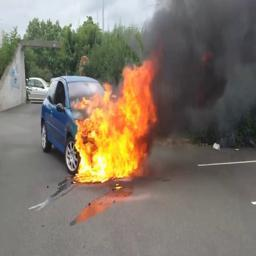fire: (74, 54, 159, 183)
